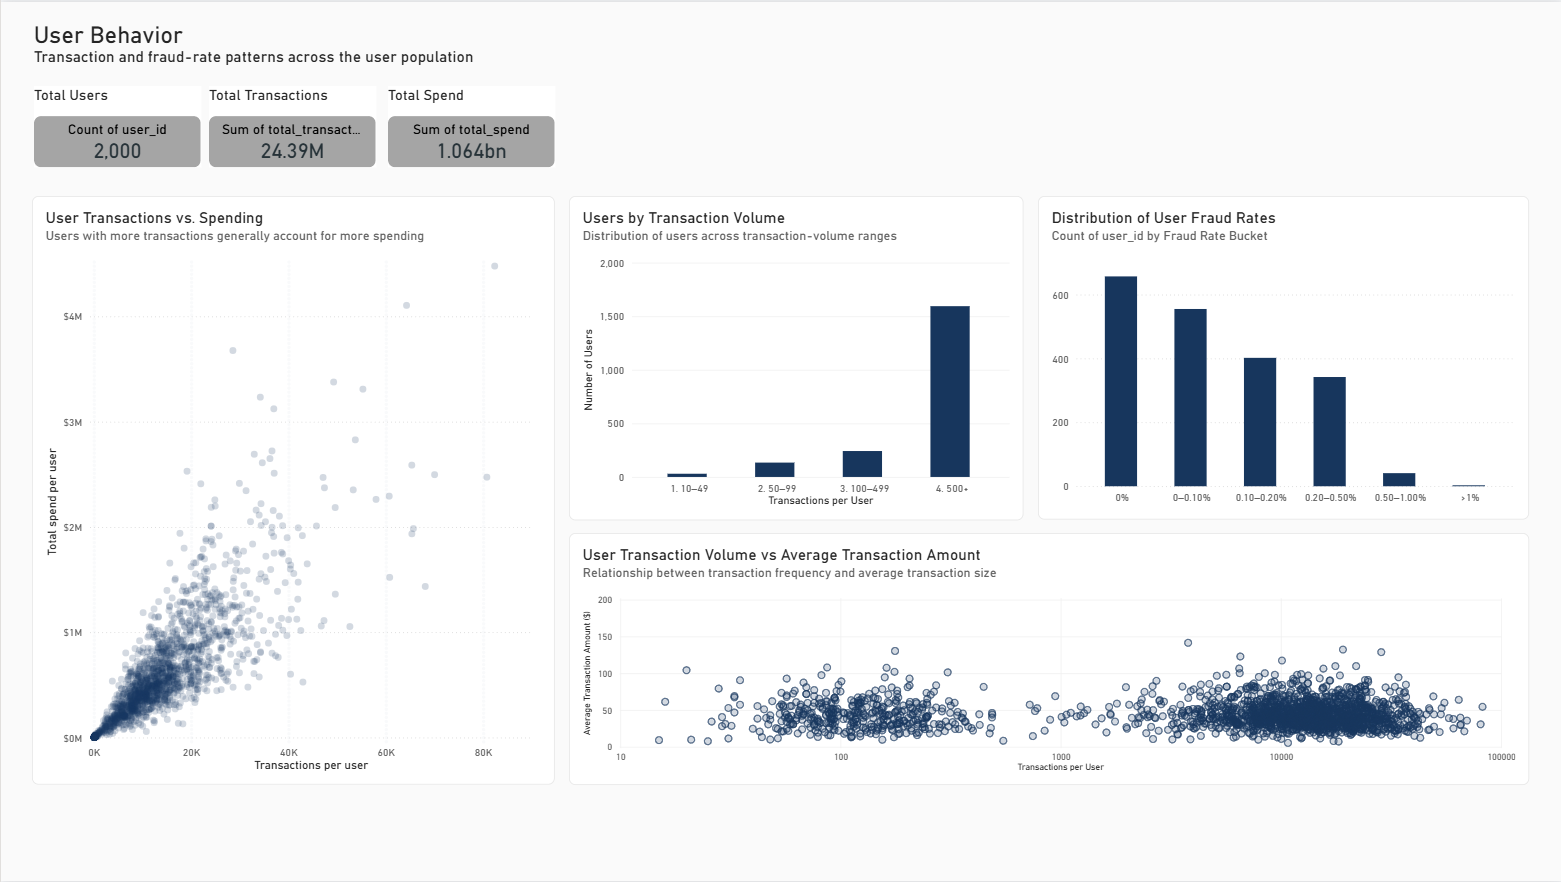

Layout of this report page (visuals, bound fields, positions):
{"tool":"powerbi","page":{"name":"User Behavior","canvas":[1920,1080],"ordinal":0},"visuals":[{"type":"cardVisual","title":"Total Users","fields":{"Data":["Count(User Behavior.user_id)"]},"box":[40.7,103.9,205.7,100],"z":0},{"type":"cardVisual","title":"Total Transactions","fields":{"Data":["Sum(User Behavior.total_transactions)"]},"box":[255.7,103.8,205.7,100],"z":1000},{"type":"cardVisual","title":"Total Spend","fields":{"Data":["Sum(User Behavior.total_spend)"]},"box":[475.7,103.8,205.7,100],"z":2000},{"type":"scatterChart","title":"User Transactions vs. Spending","fields":{"Category":["User Behavior.user_id"],"X":["User Behavior.total_transactions"],"Y":["User Behavior.total_spend"]},"box":[38.6,238.6,642.9,724.3],"z":3000},{"type":"clusteredColumnChart","title":"Distribution of User Fraud Rates","fields":{"Category":["User Behavior.Fraud Rate Bucket"],"Y":["CountNonNull(User Behavior.user_id)"]},"box":[1275.7,238.9,604,398],"z":4000},{"type":"textbox","box":[40,22.9,641.4,65.7],"z":5000},{"type":"clusteredColumnChart","title":"Users by Transaction Volume","fields":{"Category":["User Behavior.User Transaction Volume Bucket"],"Y":["CountNonNull(User Behavior.user_id)"]},"box":[698.6,238.6,558.6,398.6],"z":6000},{"type":"scatterChart","title":"User Transaction Volume vs Average Transaction Amount","fields":{"X":["User Behavior.total_transactions"],"Y":["User Behavior.avg_transaction_amount"]},"box":[698.6,652.9,1181.4,310],"z":7000}]}

Visuals, with their boxes in screenshot pixels (x1, y1, x2, y2), scaled from the page's 1920x1080 canvas onto the 1561x882 screenshot:
"Total Users" cardVisual: Rect(33, 85, 200, 167)
"Total Transactions" cardVisual: Rect(208, 85, 375, 166)
"Total Spend" cardVisual: Rect(387, 85, 554, 166)
"User Transactions vs. Spending" scatterChart: Rect(31, 195, 554, 786)
"Distribution of User Fraud Rates" clusteredColumnChart: Rect(1037, 195, 1528, 520)
textbox: Rect(33, 19, 554, 72)
"Users by Transaction Volume" clusteredColumnChart: Rect(568, 195, 1022, 520)
"User Transaction Volume vs Average Transaction Amount" scatterChart: Rect(568, 533, 1528, 786)
